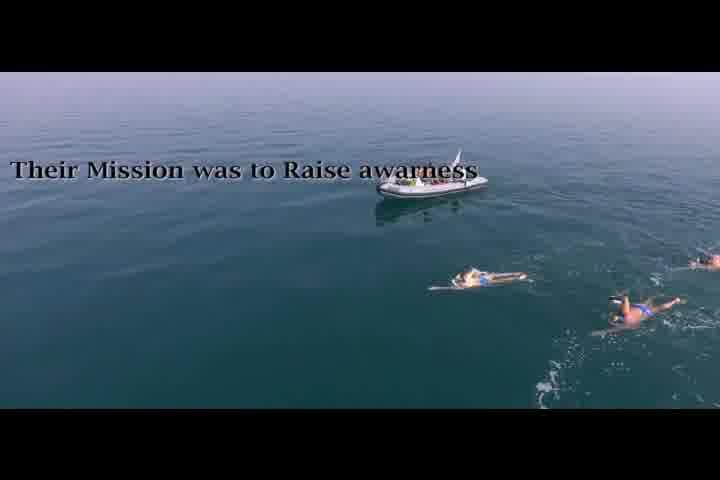swimmer: (604, 288, 682, 340), (424, 260, 532, 294)
